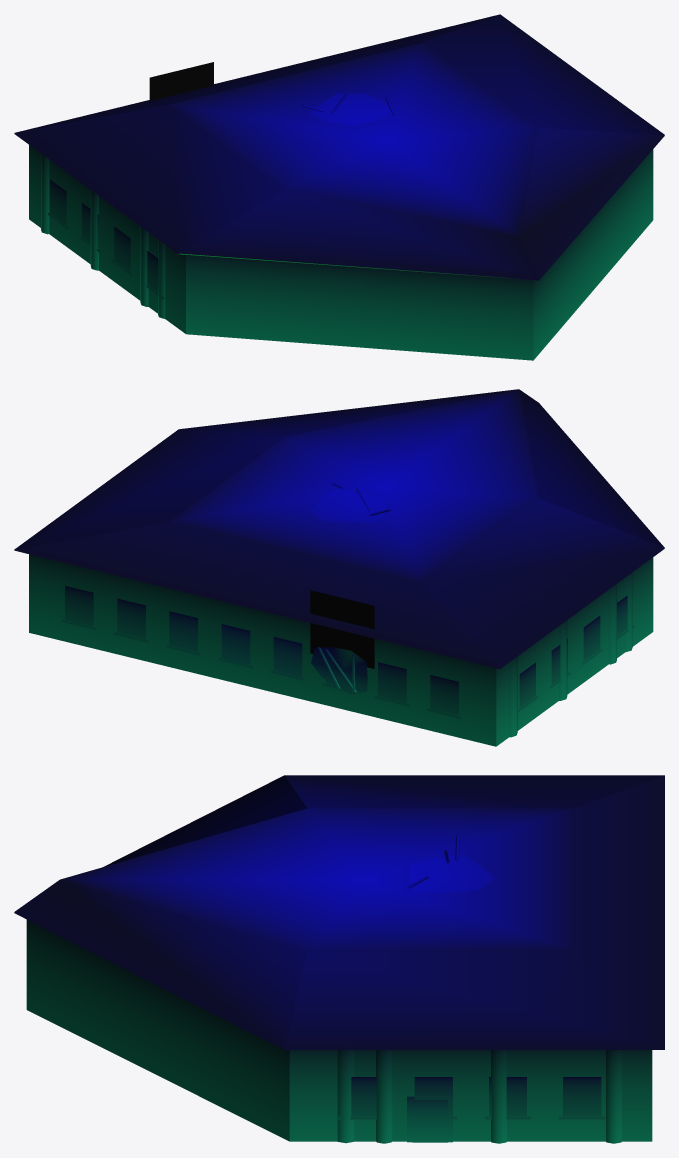
File: s_adminquarter_damaged.glb
3 renders of one model, top to bottom at view 1: azimuth 30°, elevation 25°; view 2: azimuth 150°, elevation 25°; view 3: azimuth 270°, elevation 25°, orthographic. The views are drawn at different scales.
Parts seen in each view (by area): view 1: lod0; view 2: lod0; view 3: lod0.
Part boxes in pixels (bbox=[...]): lod0: bbox=[14, 14, 664, 360]; lod0: bbox=[14, 389, 664, 746]; lod0: bbox=[14, 775, 664, 1143].
Size of what is drawn, in the model's own units: 25.4 by 6.84 by 25.5.
